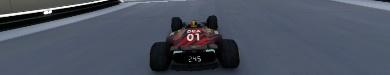Car: (148, 14, 239, 71)
obstacles-Borders: (0, 0, 123, 42)
